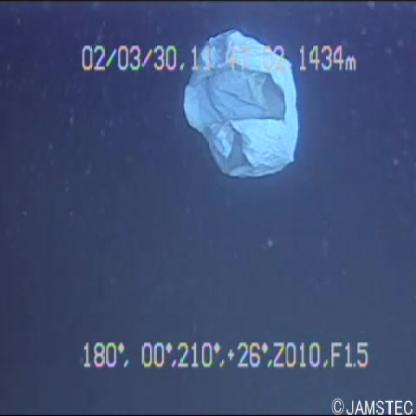Rác: (170, 13, 310, 193)
